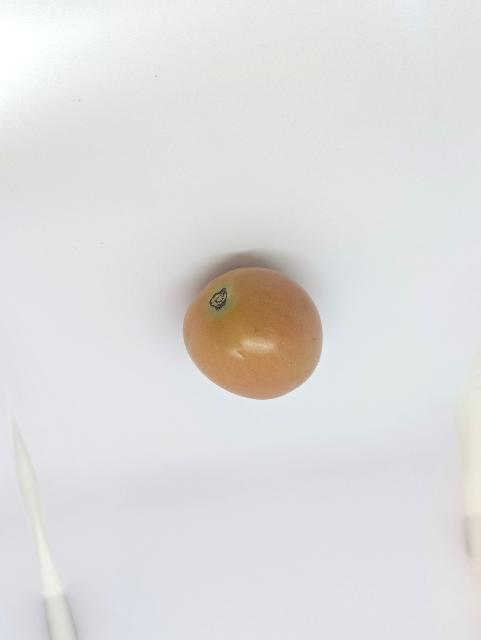turning: (178, 260, 327, 406)
